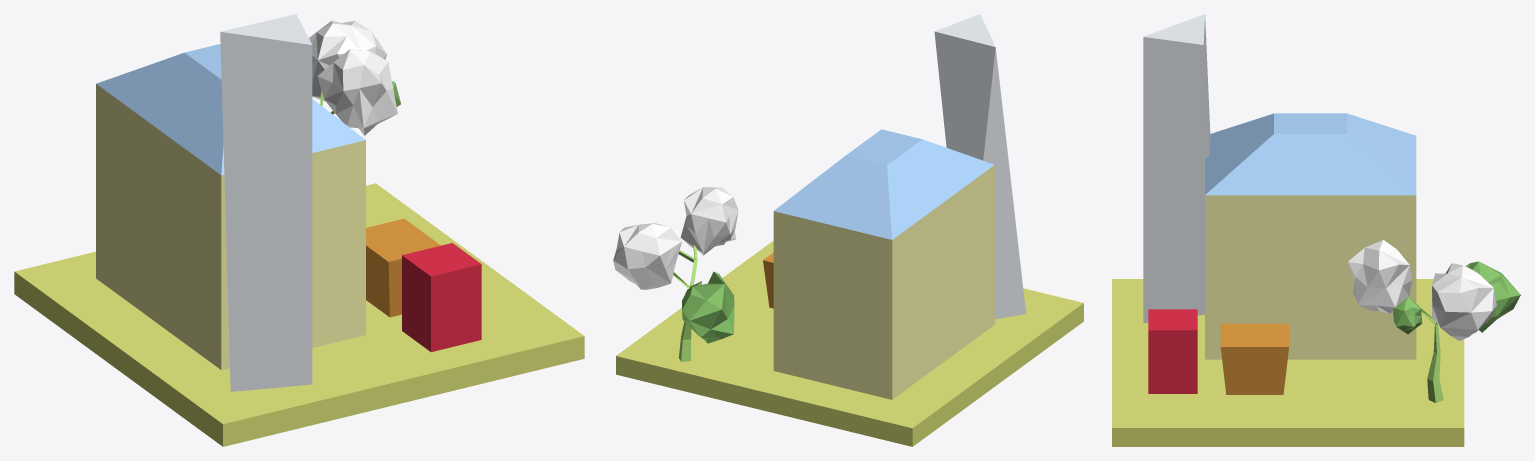
The model's file is building_recyclingplant.fbx.
3 renders of one model, left to right at view 1: azimuth 30°, elevation 25°; view 2: azimuth 150°, elevation 25°; view 3: azimuth 270°, elevation 25°, orthographic. The views are drawn at different scales.
Parts seen in each view (by area): view 1: factory; view 2: factory; view 3: factory.
Boxes of the visible parts, x1,y1,x2,y2 form: factory: (14,14,584,446); factory: (613,14,1083,446); factory: (1112,14,1520,446).
Size of the model in its own units: 50 by 47.85 by 58.03.
